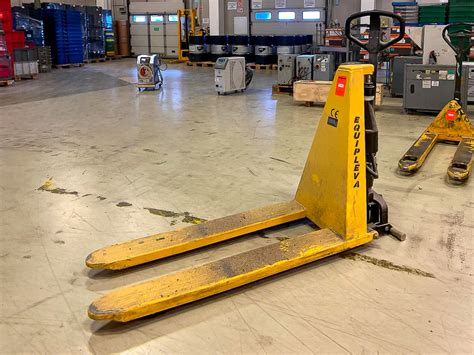Pallet Jack: (83, 8, 407, 323), (397, 22, 474, 184)
